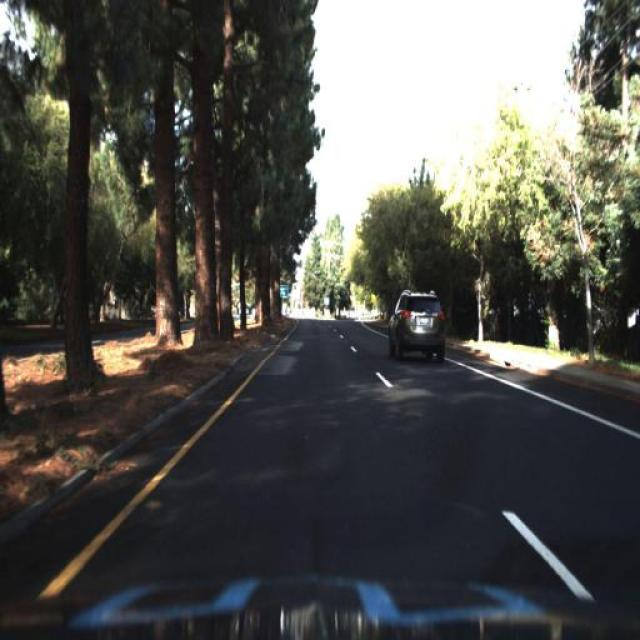car: (382, 284, 446, 362)
